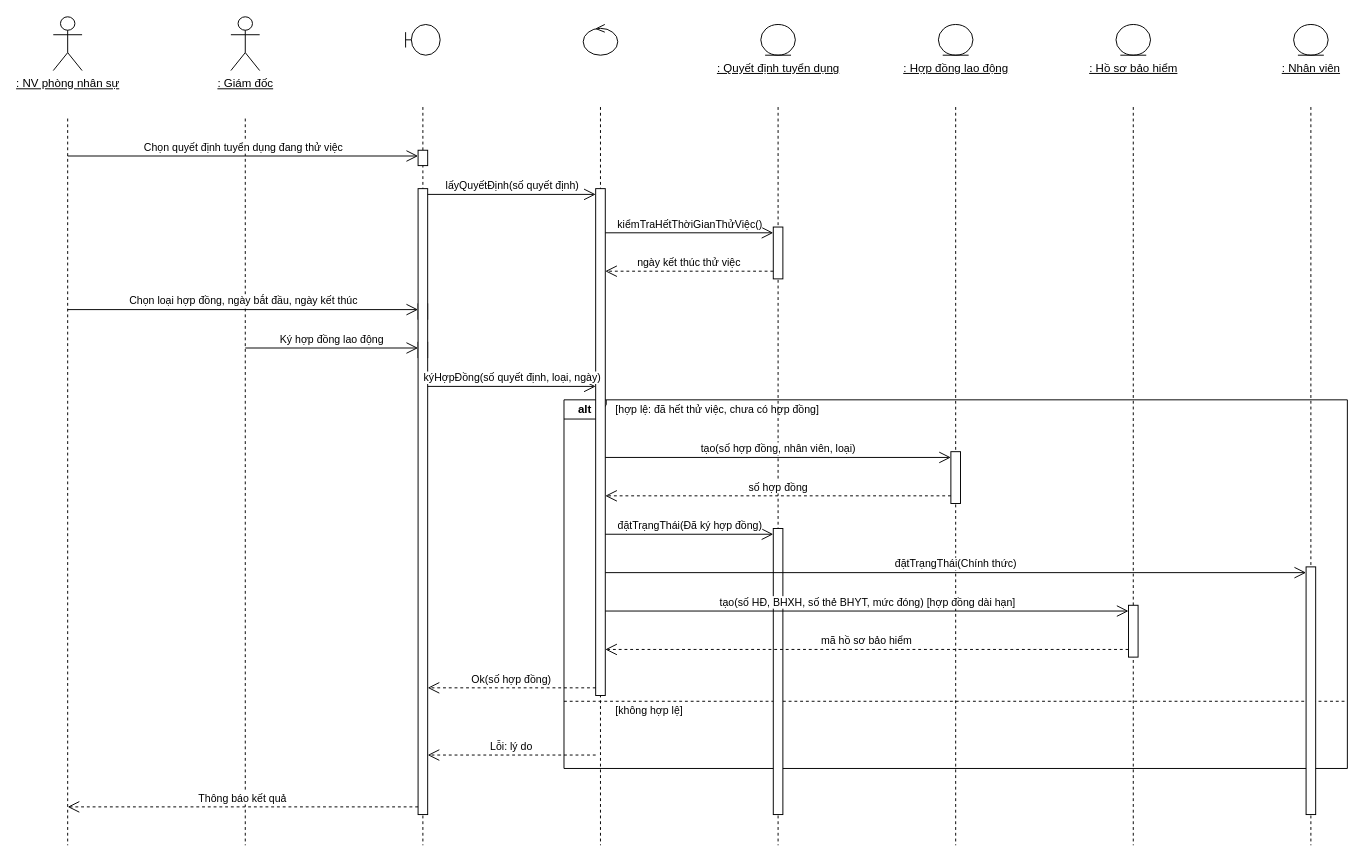
This 1365x863 diagram has some shape labels left out. The centre of each missing label's shape, as x and y in pixels:
: Màn hình hợp đồng: pixel 422 39
: Điều khiển tuyển dụng: pixel 600 39
